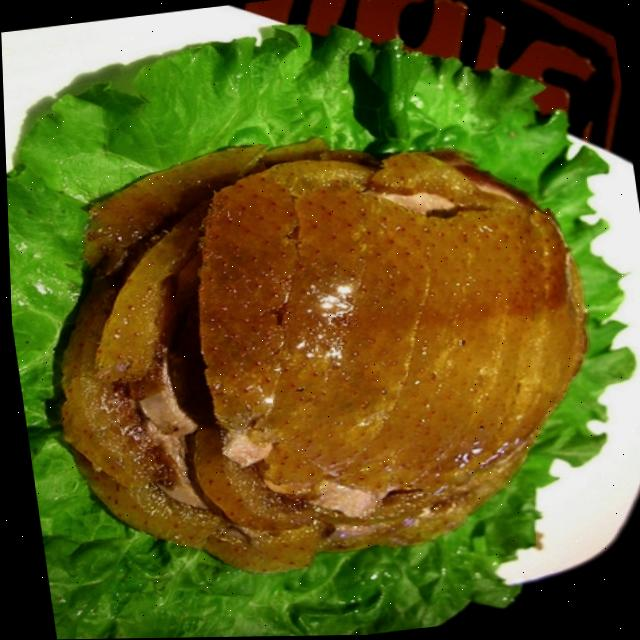烧串烤肉: (2, 50, 640, 640)
